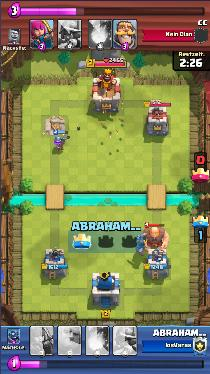ally_knight: (135, 233, 146, 256)
ally_musketeer: (53, 134, 67, 152)
enemy_giant: (140, 225, 168, 251)
